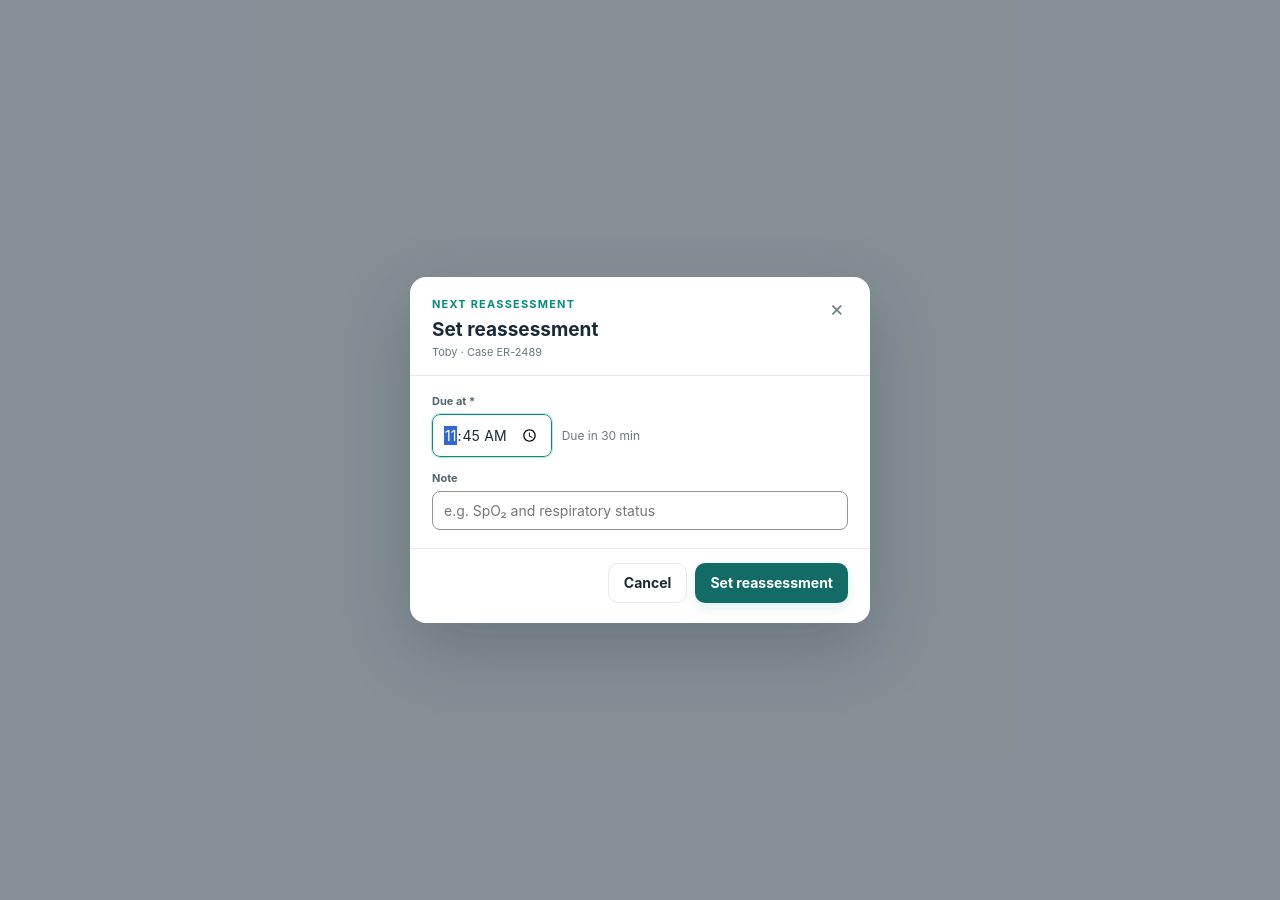
Test: DueItemDialog › shows the API's due time message under the time
Click the button "Set reassessment" at coordinates (772, 583), box [695, 563, 848, 603]
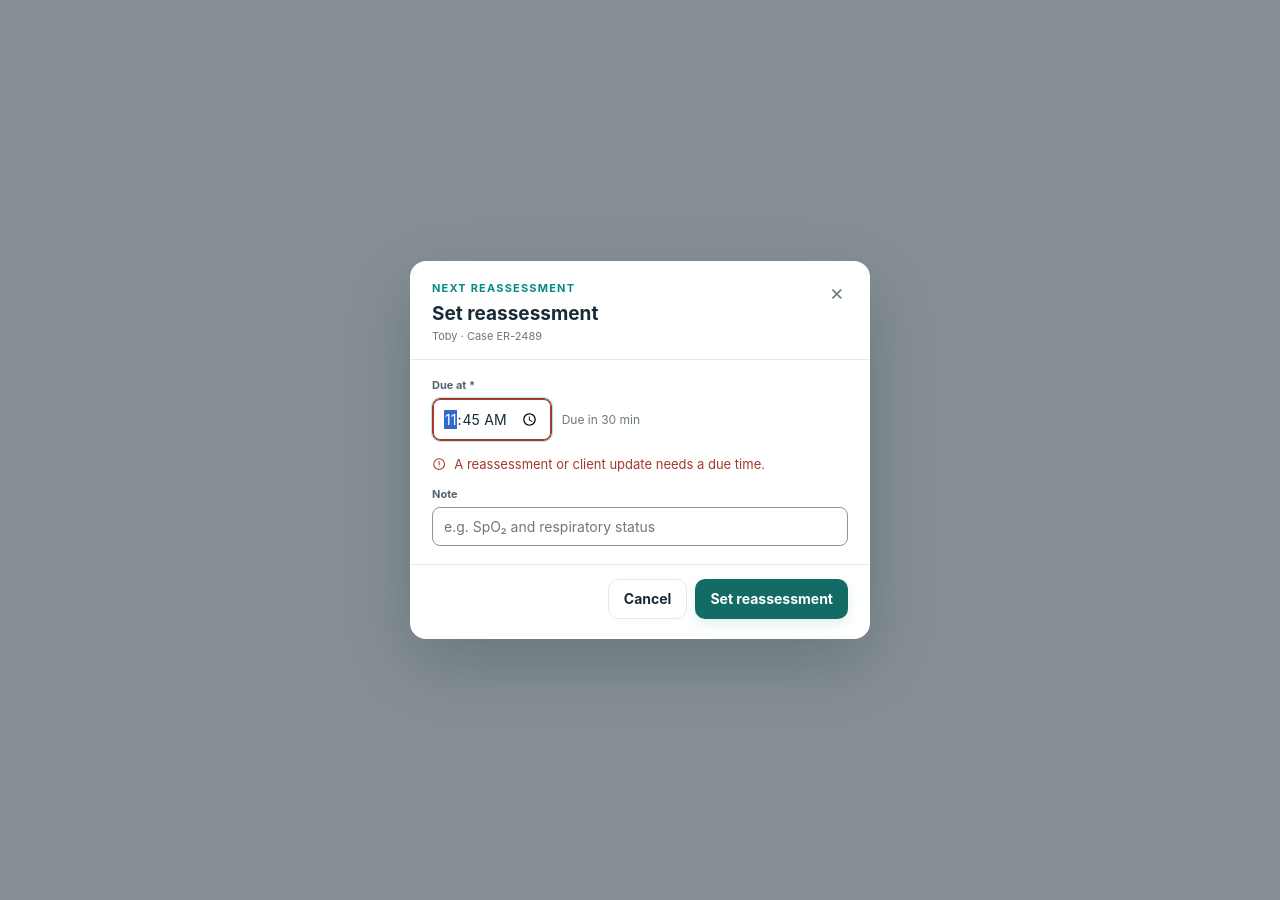
Now the text "A reassessment or client update needs a due time." is shown, box [432, 456, 765, 472]
